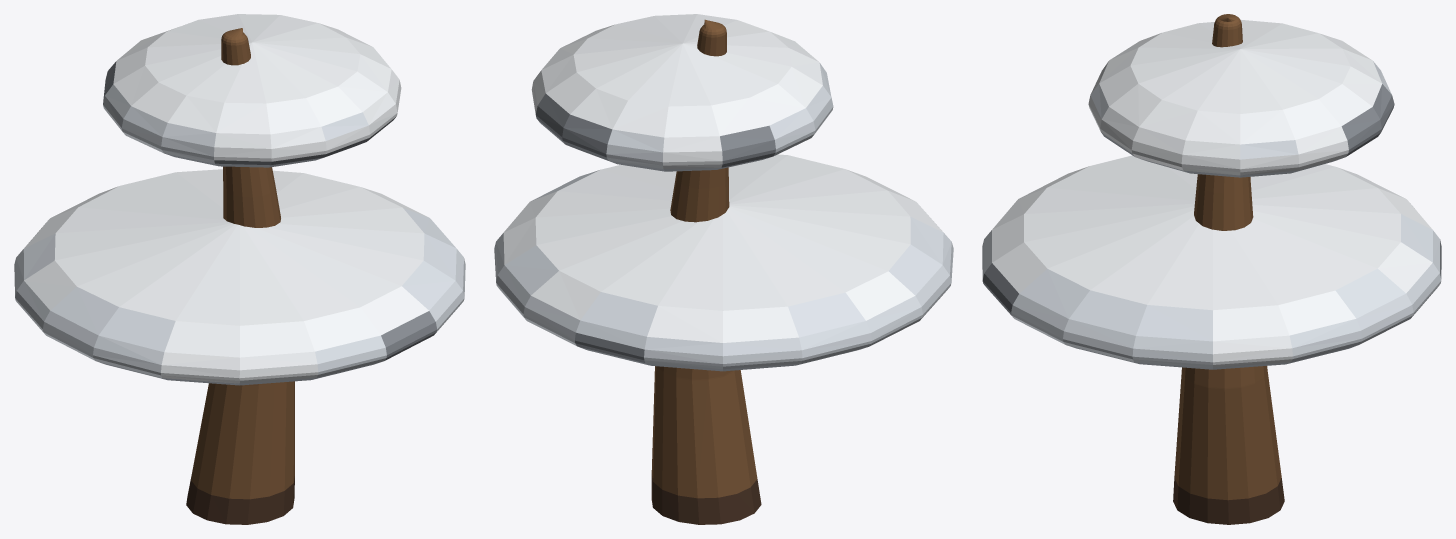
The model's file is CanopyTreeFar.obj.
3 views of the same model, side by side, from view 1: azimuth 30°, elevation 25°; view 2: azimuth 150°, elevation 25°; view 3: azimuth 270°, elevation 25° (orthographic). The views are drawn at different scales.
Bounding box in the file's own units: 7.59 × 8.71 × 7.48.
